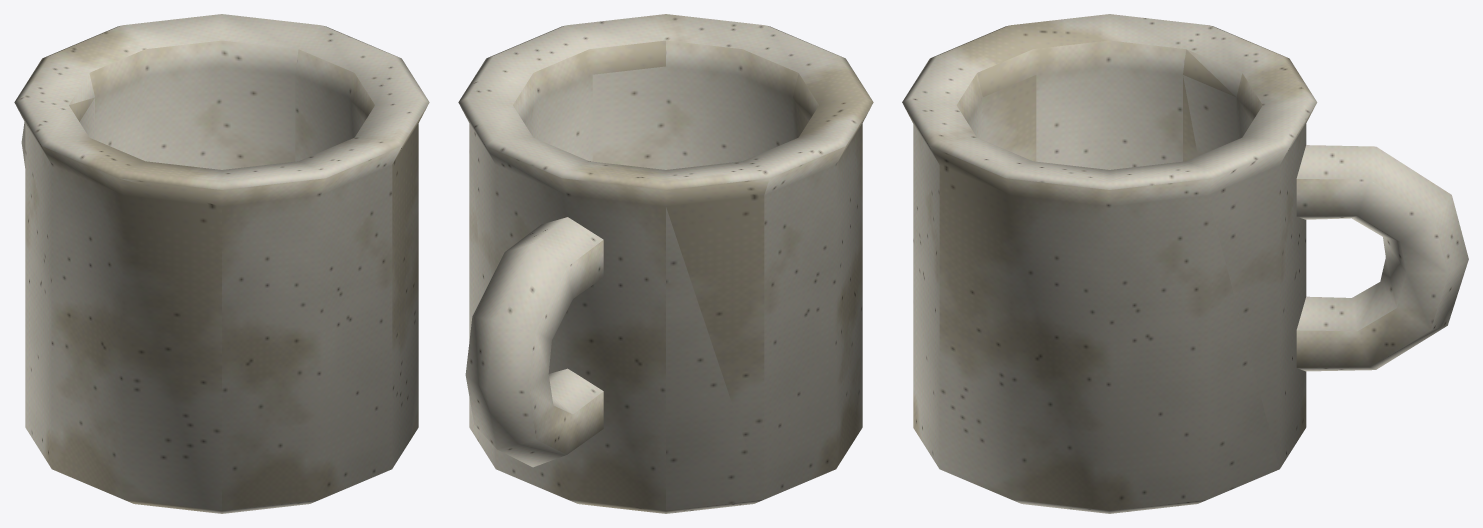
The model's file is CoffeeMug.fbx.
The picture shows the model from 3 angles, left to right: view 1: azimuth 30°, elevation 25°; view 2: azimuth 150°, elevation 25°; view 3: azimuth 270°, elevation 25°; orthographic projection.
Parts seen in each view (by area): view 1: CoffeeMug; view 2: CoffeeMug, CoffeeMug.001; view 3: CoffeeMug, CoffeeMug.001.
Part boxes in pixels (bbox=[...]): CoffeeMug: bbox=[14, 14, 429, 513]; CoffeeMug: bbox=[458, 14, 873, 513]; CoffeeMug.001: bbox=[465, 217, 603, 467]; CoffeeMug: bbox=[902, 14, 1317, 513]; CoffeeMug.001: bbox=[1296, 145, 1468, 371].
Bounding box in the file's own units: 0.1242 × 0.1129 × 0.1695.
1 material, 1 textured.
